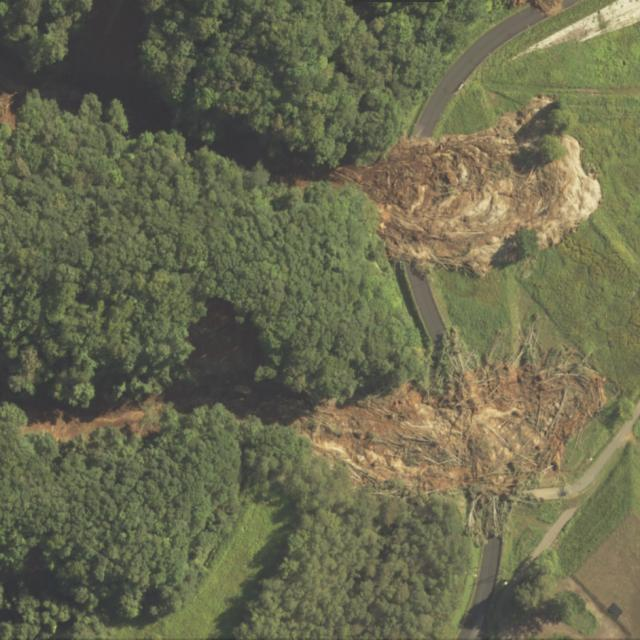landslide: (336, 95, 602, 274), (301, 353, 607, 494), (161, 297, 314, 425), (24, 397, 161, 442)
